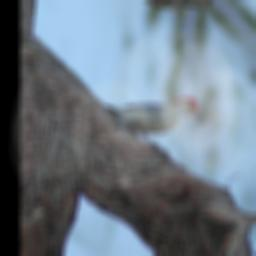Woodpecker: (102, 75, 208, 155)
